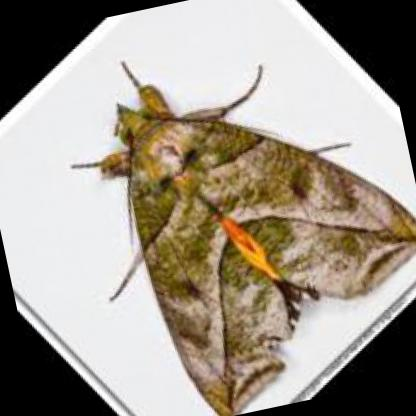fruit sucking moth: (119, 104, 416, 413)
